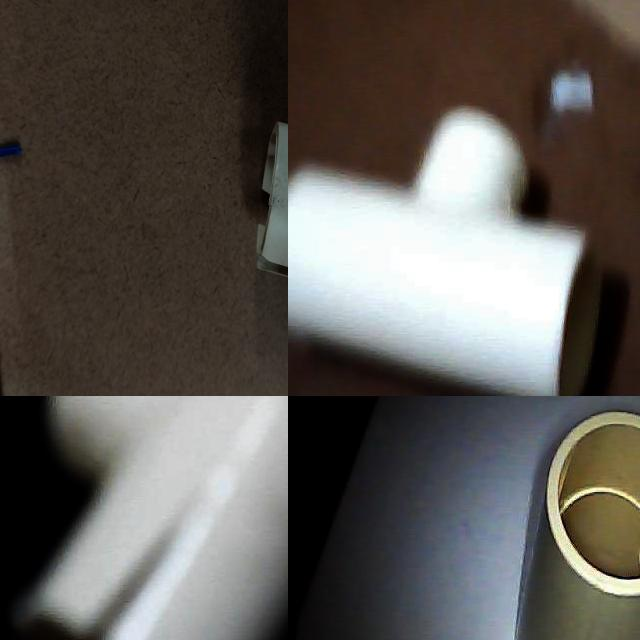Defective: (109, 489, 165, 640), (54, 569, 119, 640), (260, 66, 288, 205), (227, 69, 243, 96)
T Joint: (288, 105, 604, 396), (7, 396, 288, 640), (513, 411, 640, 640)
